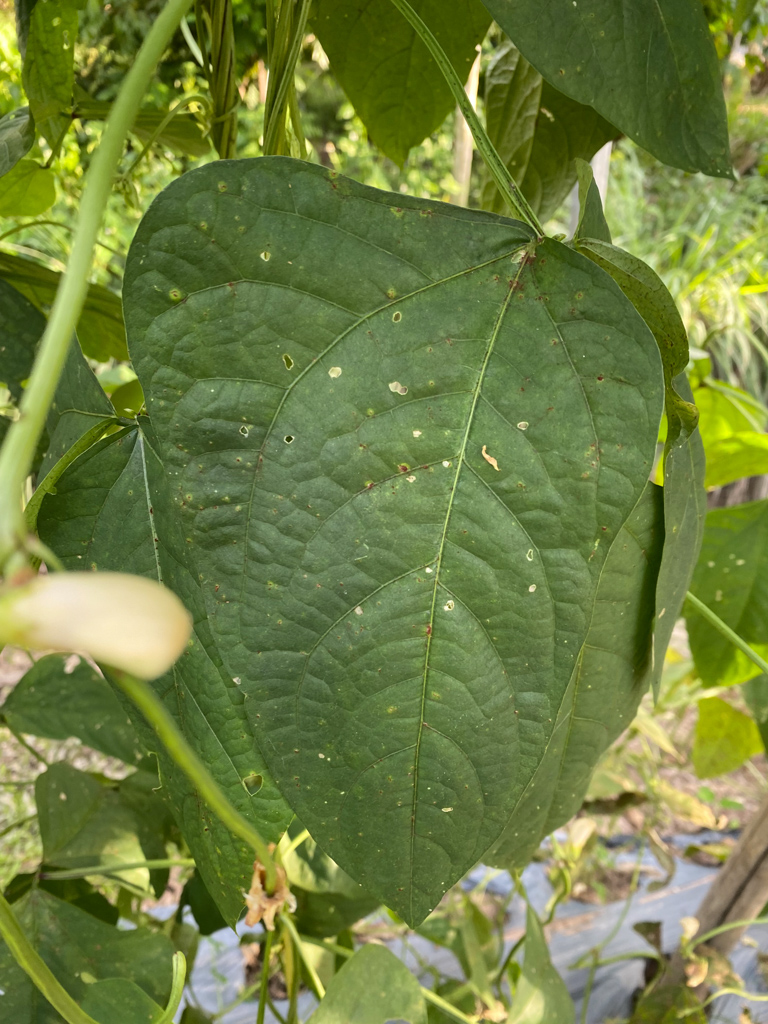Rust: (132, 170, 667, 933)
